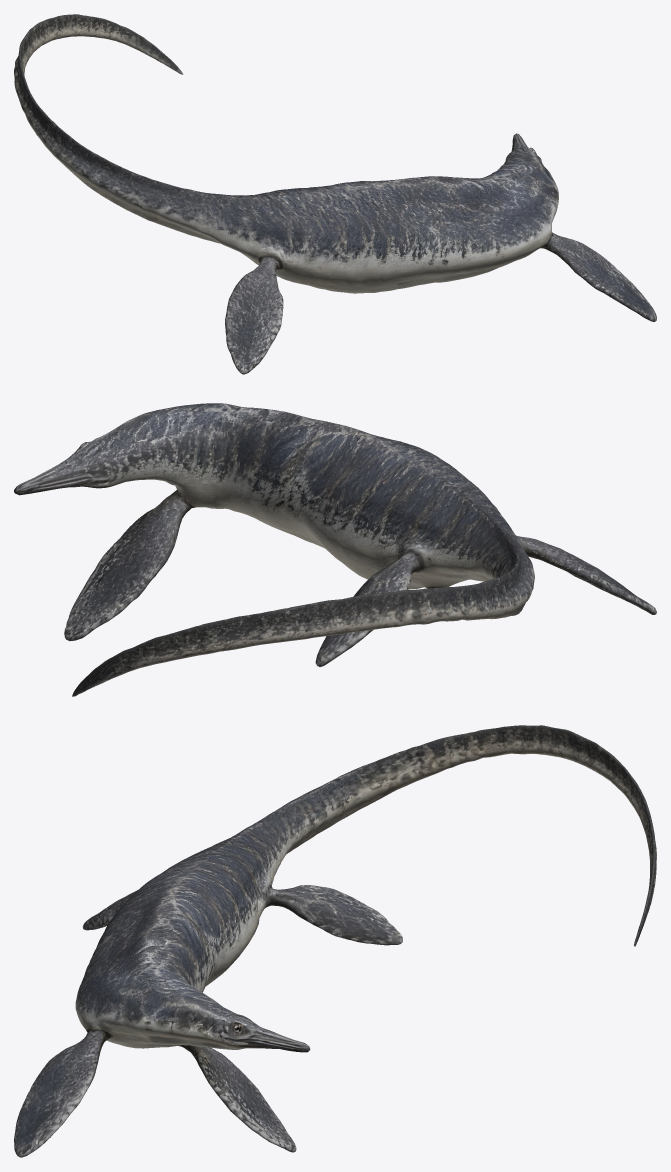
The model's file is askeptosaurus.preview.glb.
The picture shows the model from 3 angles, top to bottom: view 1: azimuth 30°, elevation 25°; view 2: azimuth 150°, elevation 25°; view 3: azimuth 270°, elevation 25°; orthographic projection. The views are drawn at different scales.
Parts seen in each view (by area): view 1: tripo_node_93520fae-b1e1-4356-a4e1-46f978243502.001; view 2: tripo_node_93520fae-b1e1-4356-a4e1-46f978243502.001; view 3: tripo_node_93520fae-b1e1-4356-a4e1-46f978243502.001.
Part boxes in pixels (left/top/right/bottom): tripo_node_93520fae-b1e1-4356-a4e1-46f978243502.001: left=14, top=14, right=656, bottom=374; tripo_node_93520fae-b1e1-4356-a4e1-46f978243502.001: left=14, top=403, right=656, bottom=696; tripo_node_93520fae-b1e1-4356-a4e1-46f978243502.001: left=14, top=725, right=656, bottom=1157.
Size of the model in its own units: 0.8599 by 0.3999 by 1.
Materials: 1 (1 with a texture image).
